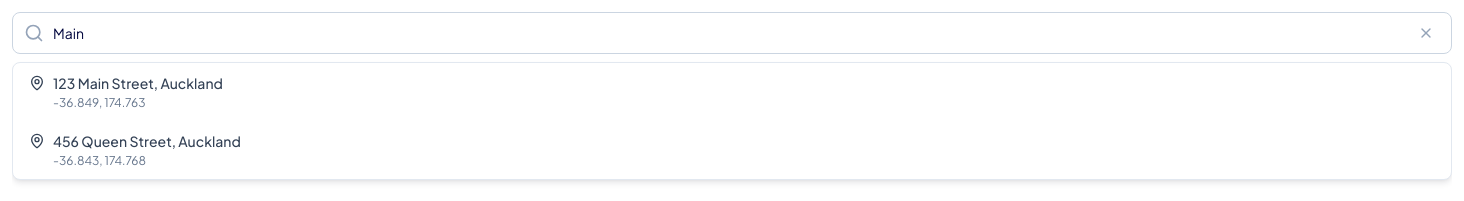
Test case: SearchBar › Suggestions Dropdown › closes dropdown after selecting a suggestion
Click the text "123 Main Street, Auckland".
click(138, 83)  # box x1=53 y1=74 x2=223 y2=92
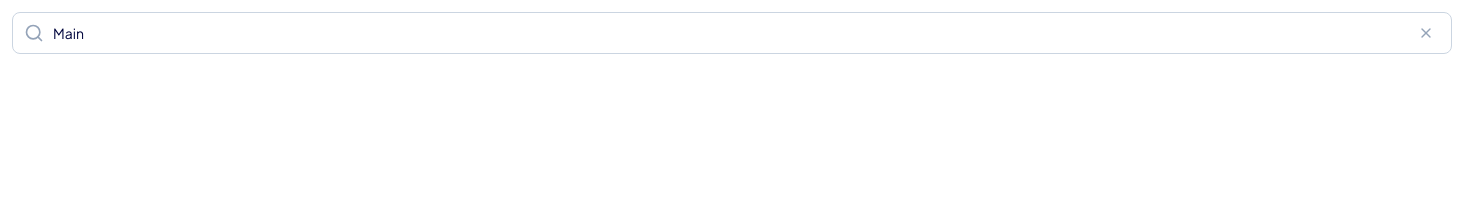
Result: the list is gone
